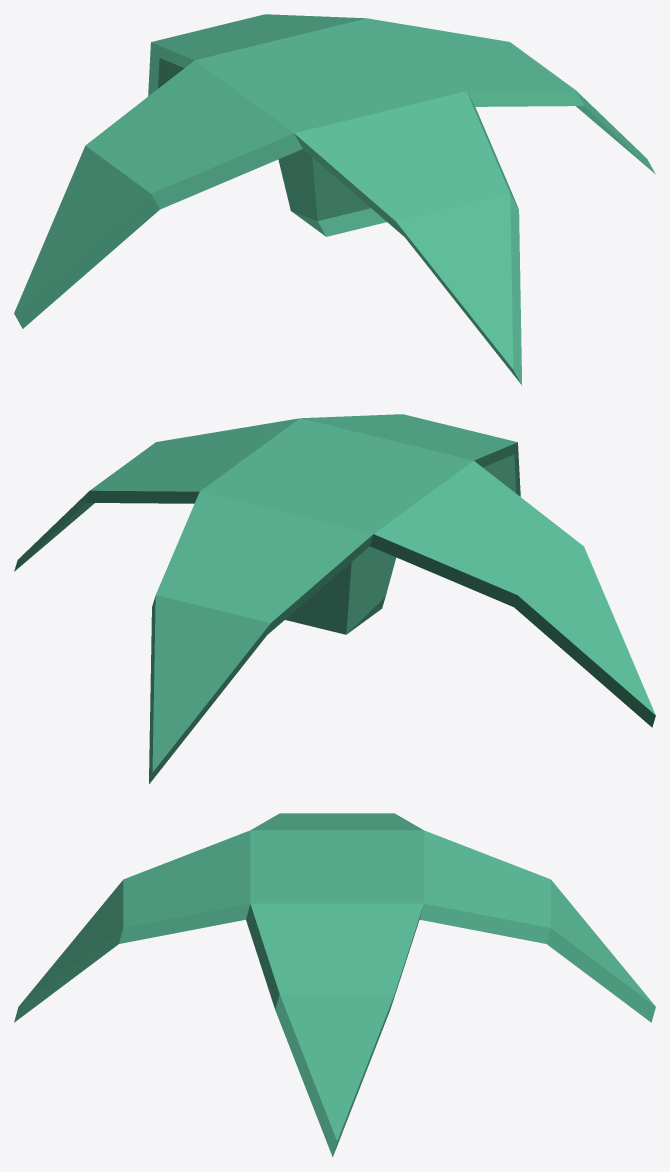
File: smallTail.obj
The picture shows the model from 3 angles, top to bottom: view 1: azimuth 30°, elevation 25°; view 2: azimuth 150°, elevation 25°; view 3: azimuth 270°, elevation 25°; orthographic projection. The views are drawn at different scales.
Parts seen in each view (by area): view 1: tomato.002; view 2: tomato.002; view 3: tomato.002.
Boxes of the visible parts, x1,y1,x2,y2 form: tomato.002: (14, 14, 655, 385); tomato.002: (14, 414, 655, 783); tomato.002: (14, 813, 655, 1156).
Bounding box in the file's own units: 0.0439 × 0.0115 × 0.0438.
